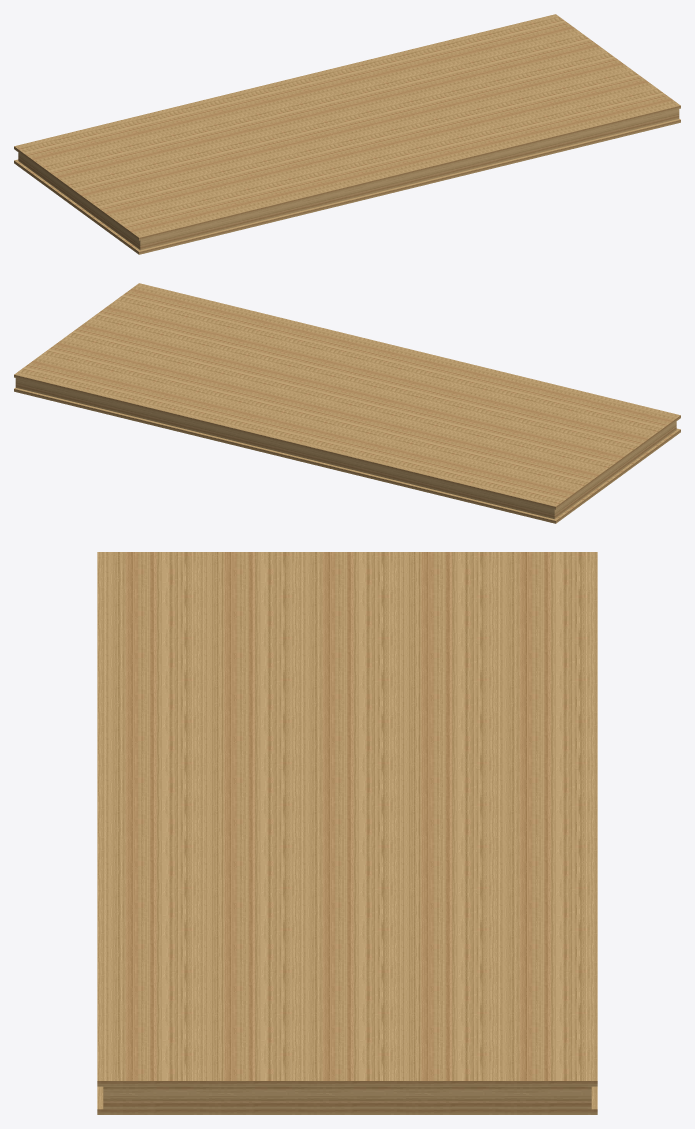
Rendered from burtonjames_536sofa_bottom.gltf.
The picture shows the model from 3 angles, top to bottom: view 1: azimuth 30°, elevation 25°; view 2: azimuth 150°, elevation 25°; view 3: azimuth 270°, elevation 25°; orthographic projection. The views are drawn at different scales.
Parts seen in each view (by area): view 1: burtonjames_536sofa_bottom; view 2: burtonjames_536sofa_bottom; view 3: burtonjames_536sofa_bottom.
Boxes of the visible parts, box(x1,y1,x2,y2) form: burtonjames_536sofa_bottom: box(14, 14, 680, 254); burtonjames_536sofa_bottom: box(14, 283, 680, 523); burtonjames_536sofa_bottom: box(97, 552, 597, 1114).
Size of the model in its own units: 2540 by 76.12 by 1016.
1 material, 1 textured.
